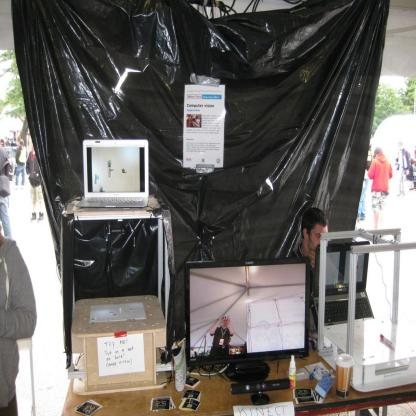board: (67, 132, 151, 212), (312, 242, 375, 326), (335, 354, 354, 397)
